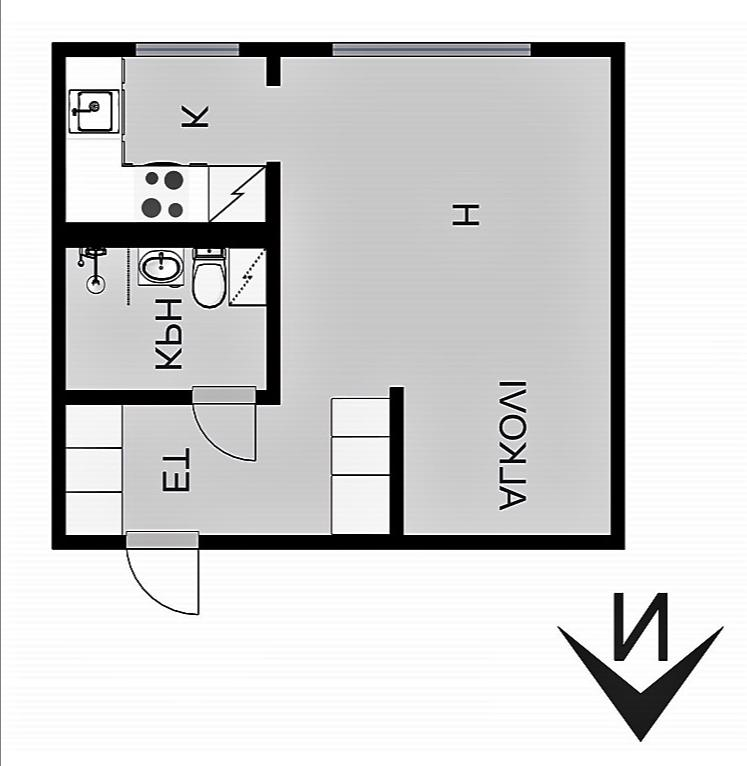bathroom: (61, 247, 268, 394)
door: (121, 528, 202, 616), (190, 382, 258, 465)
perimeter: (52, 41, 624, 546)
window: (322, 36, 543, 64), (128, 36, 248, 60)
